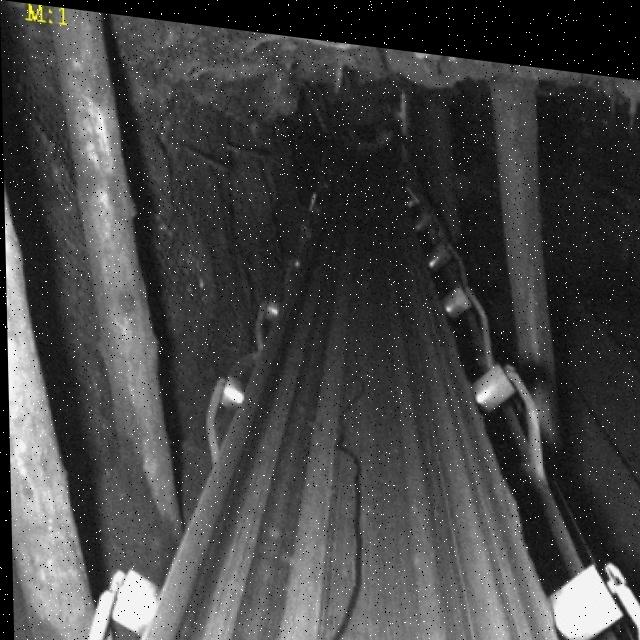bolt: (302, 350, 374, 640)
